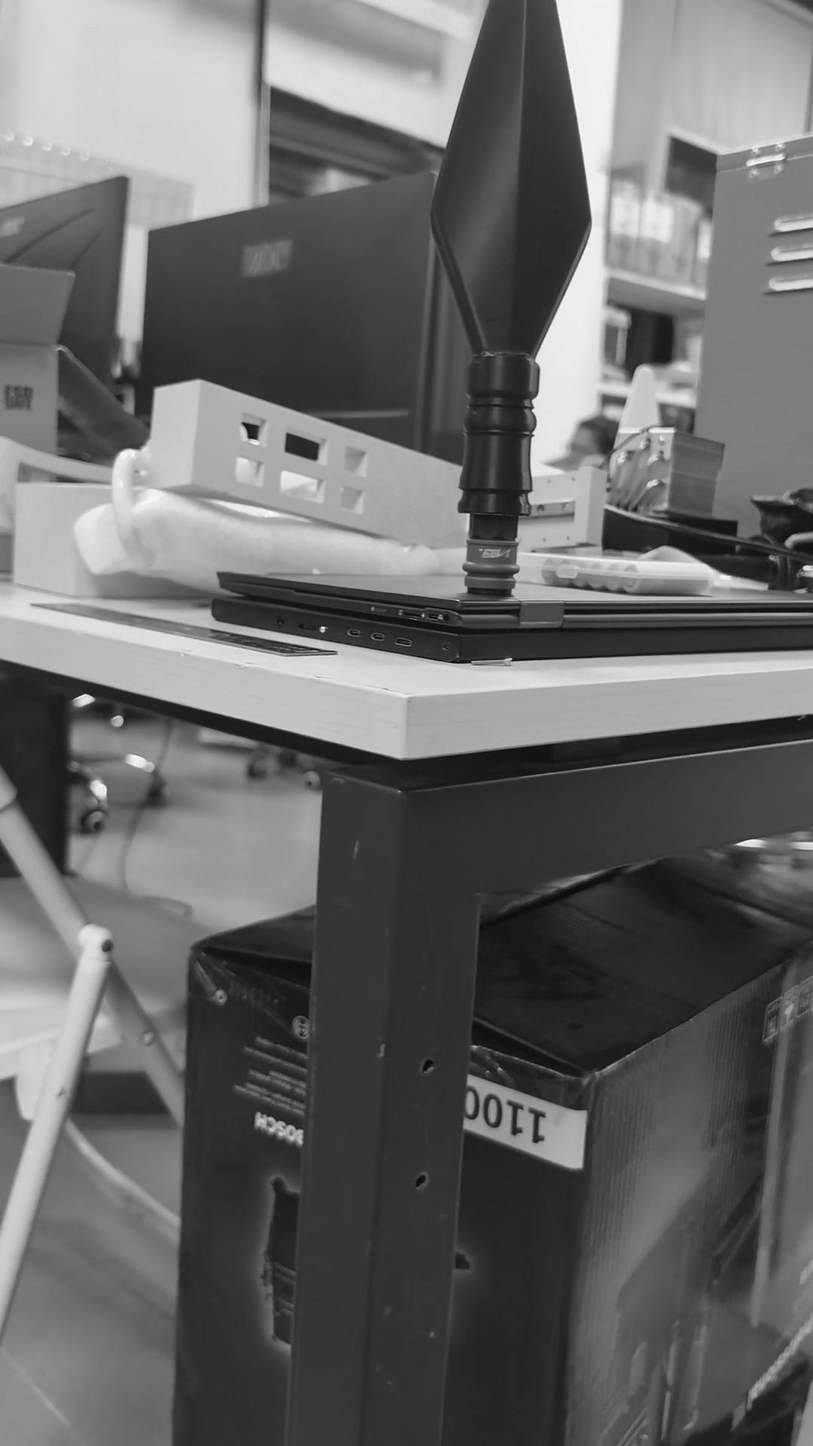base: (464, 536, 520, 598)
